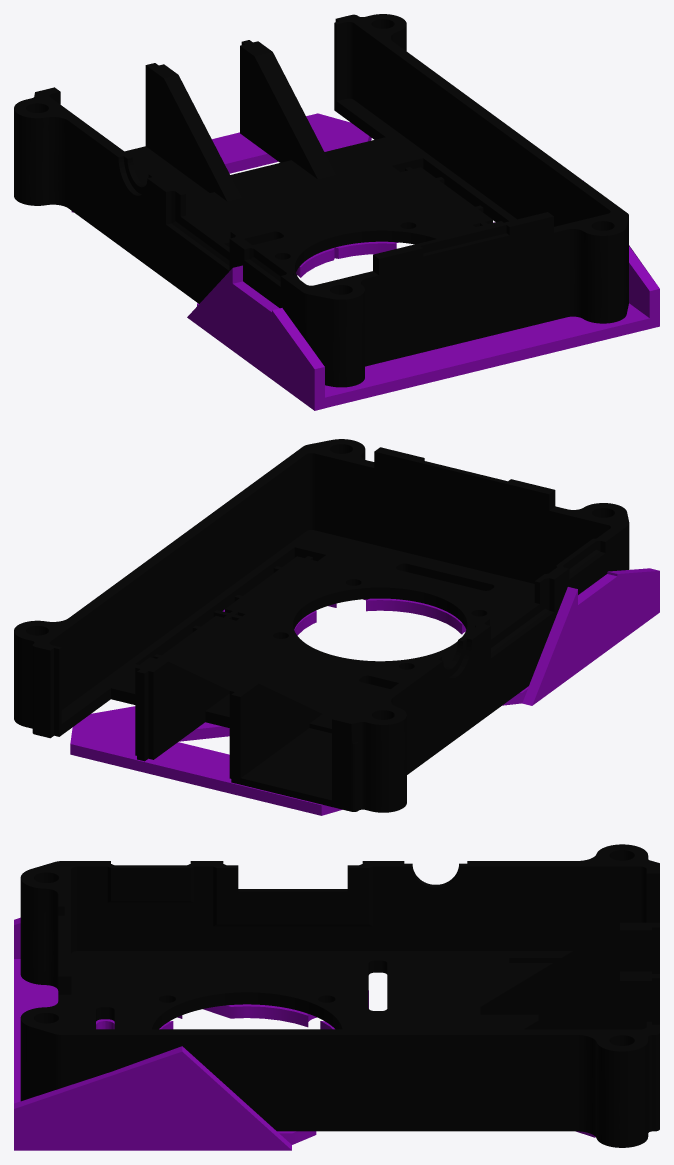
File: RPI3_ALM_TopCase_30mmFan_xxl.fbx
3 views of the same model, one above another, from view 1: azimuth 30°, elevation 25°; view 2: azimuth 150°, elevation 25°; view 3: azimuth 270°, elevation 25° (orthographic). The views are drawn at different scales.
Visible parts, largest first — view 1: rpi2_top_30mm_fan_netfabb_xxl, V1_1; view 2: rpi2_top_30mm_fan_netfabb_xxl, V1_1; view 3: rpi2_top_30mm_fan_netfabb_xxl, V1_1.
Part boxes in pixels (x1,y1,x2,y2): rpi2_top_30mm_fan_netfabb_xxl: (14,14,628,387); V1_1: (71,113,659,410); rpi2_top_30mm_fan_netfabb_xxl: (14,439,629,812); V1_1: (70,568,659,815); rpi2_top_30mm_fan_netfabb_xxl: (20,844,659,1147); V1_1: (14,917,595,1150).
Size of the model in its own units: 7.38 by 2.22 by 9.73.
